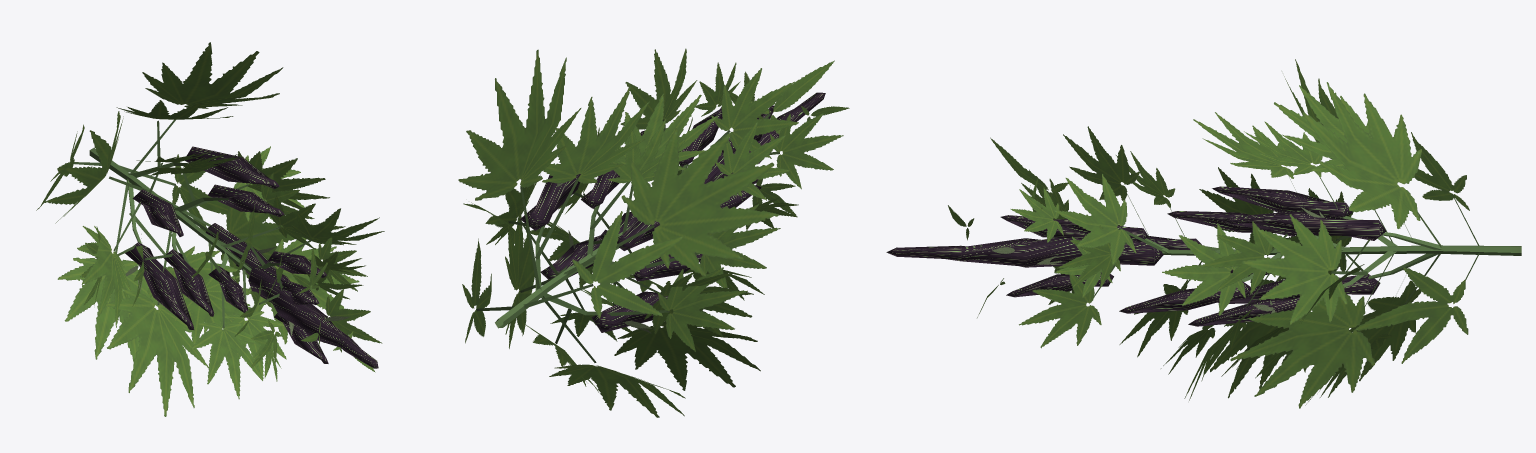
The model's file is p_dark_haze_flowering_c0_cards.obj.
The picture shows the model from 3 angles, left to right: view 1: azimuth 30°, elevation 25°; view 2: azimuth 150°, elevation 25°; view 3: azimuth 270°, elevation 25°; orthographic projection. The views are drawn at different scales.
Size of the model in its own units: 1.33 by 1.47 by 2.03.
Materials: 1 (1 with a texture image).
